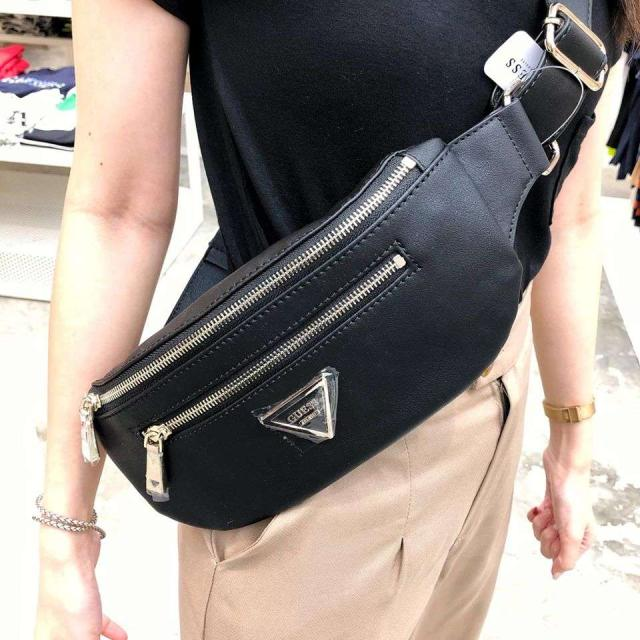Handbag: (83, 99, 564, 530)
